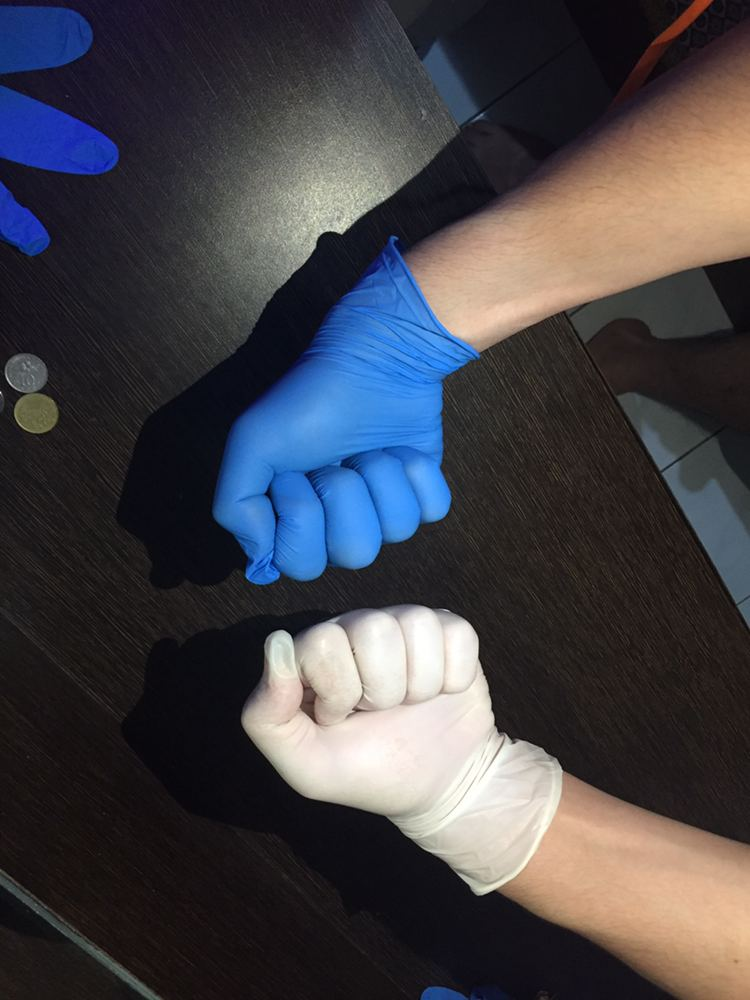glove: (171, 310, 483, 613), (194, 595, 521, 866)
